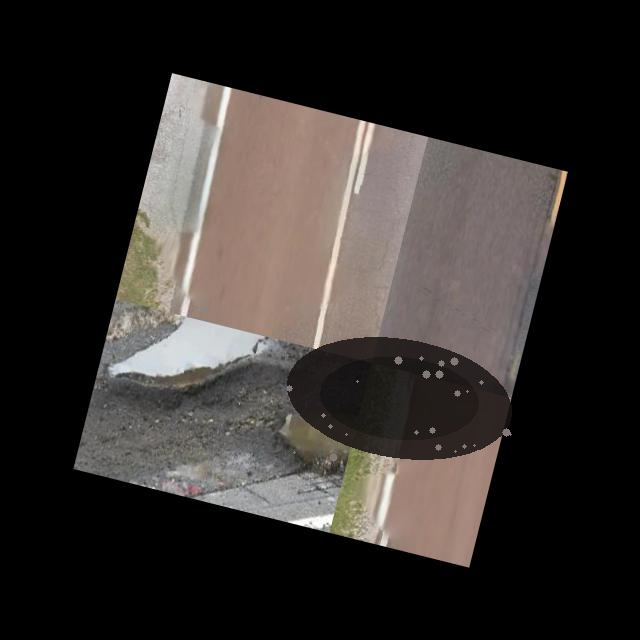pothole: (281, 334, 517, 462)
